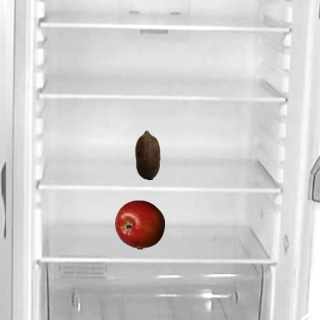Apple Braeburn: (114, 199, 164, 249)
Nut Pecan: (122, 129, 172, 179)
